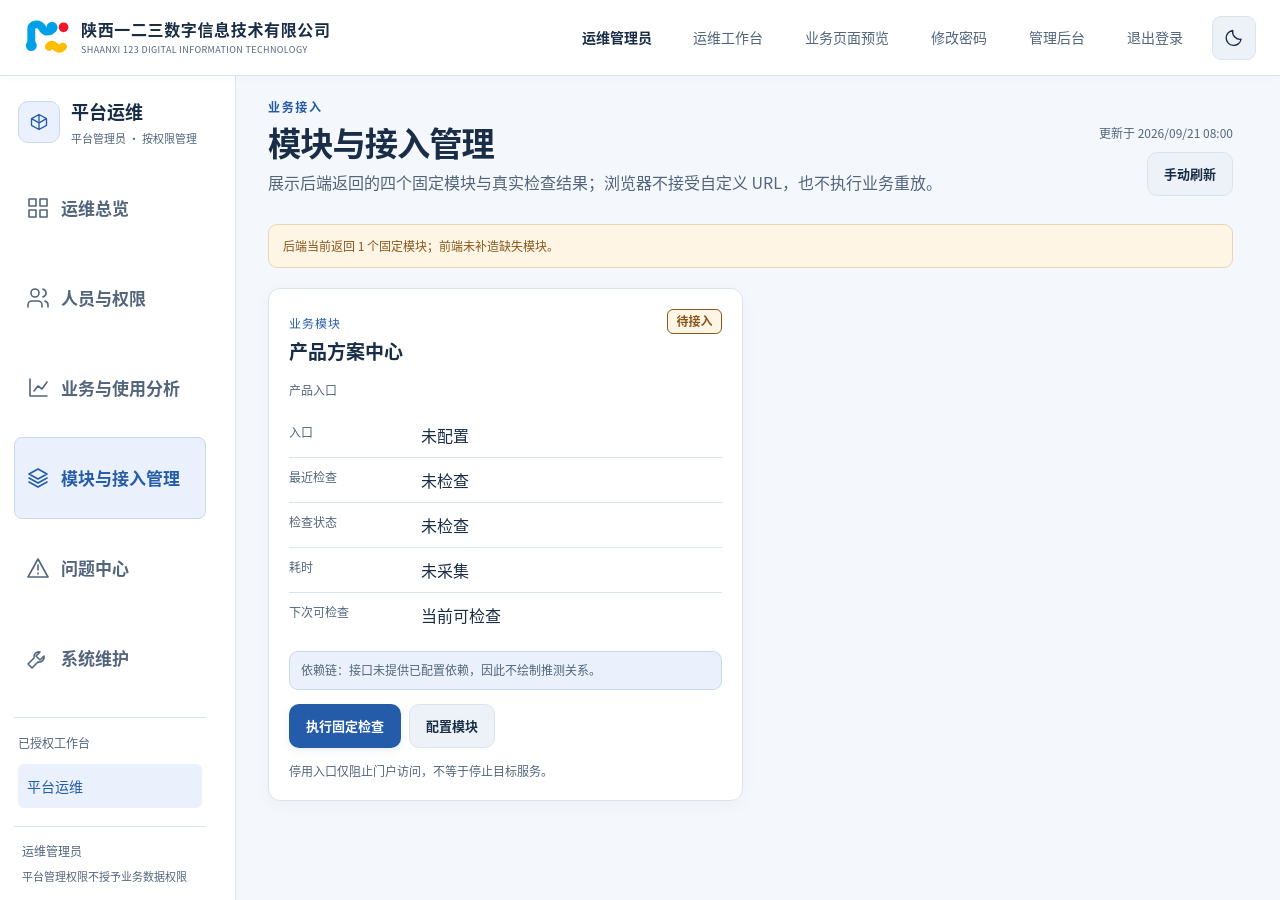
it: ops workspace › 模块检查撤权后卸载模块数据而不是保留 POST 错误态
The width and height of the screenshot is (1280, 900).
Expected: the heading "产品方案中心" is shown, [289,337,403,366]
What coordinates should you click on to do the following:
click the button "执行固定检查"
I would click on:
 (345, 726)
Its box is [289,704,401,748].
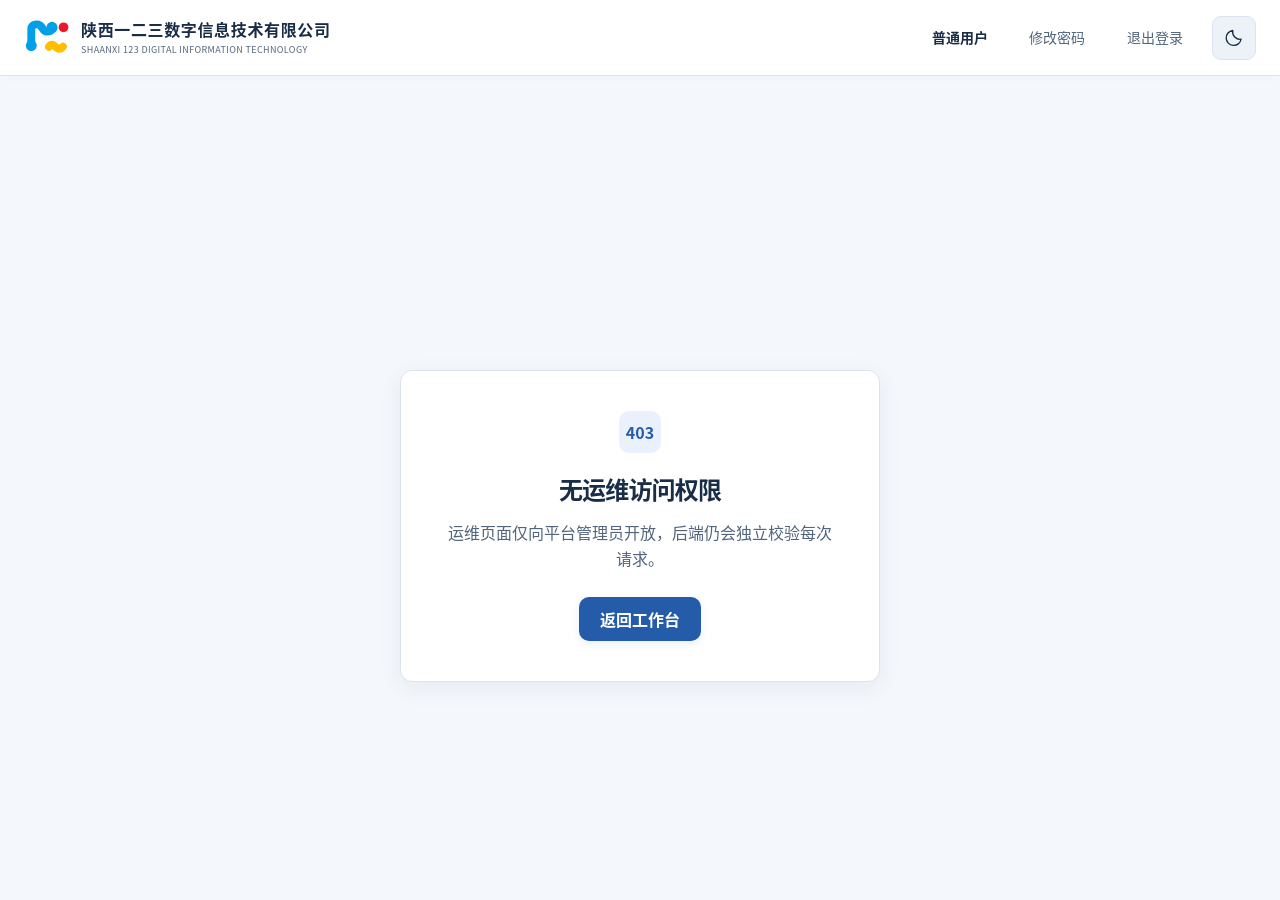
Expected: the heading "无运维访问权限" is shown, [559,471,721,506]
Expected: the heading "产品方案中心" is gone
